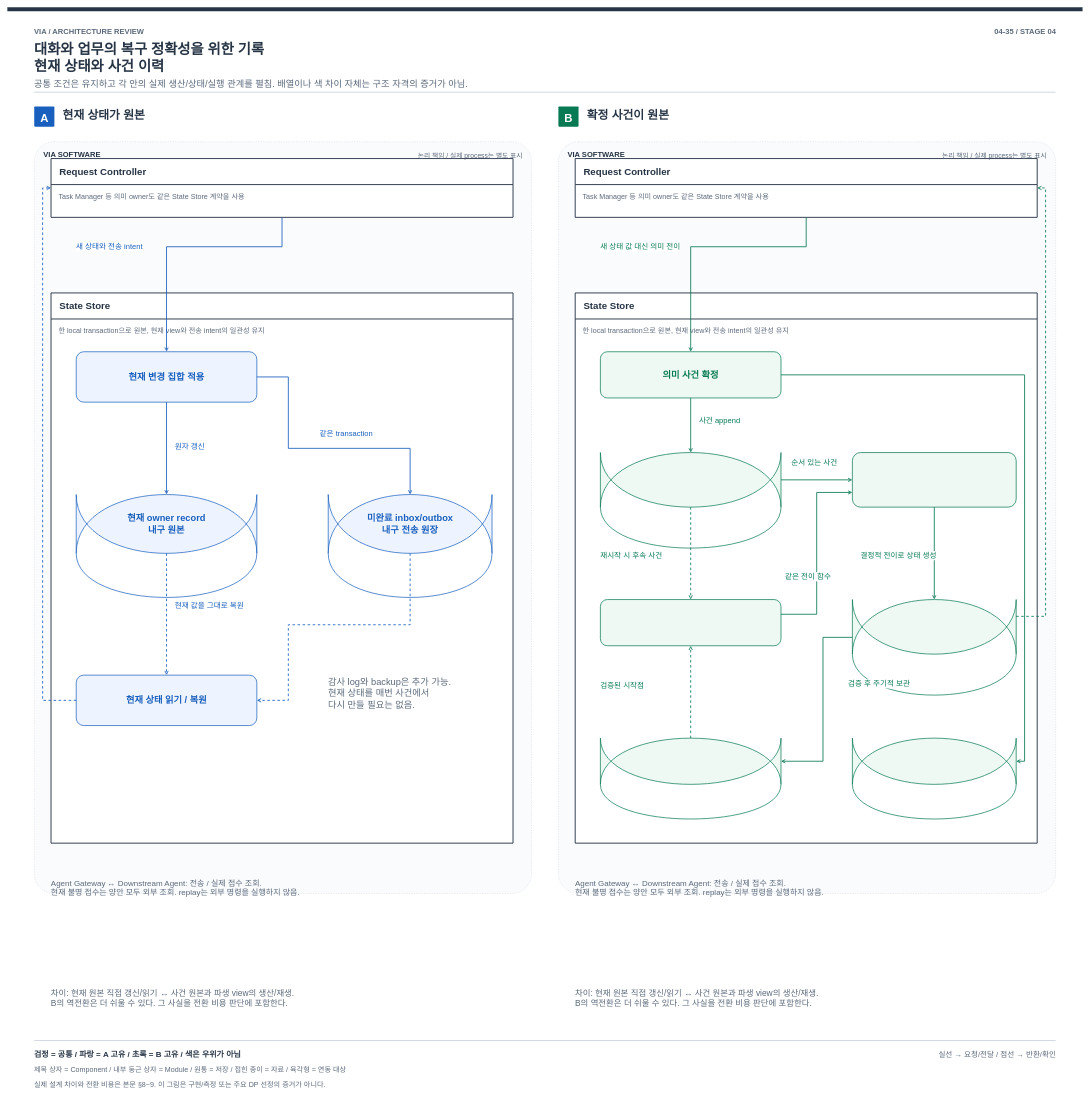
Some shapes in this 1089 by 1098 pixel diagram are drawn without their labels. Here are the shapes that lost their labels. From the top down, the centre of each, then its label:
At point (690, 479): "의미 사건 journal 내구 원본".
At point (934, 479): "상태 전이 reducer".
At point (690, 622): "checkpoint + 후속 사건 재생".
At point (934, 626): "현재 projection 다시 만들 수 있는 view".
At point (690, 761): "검증된 checkpoint 파생 snapshot".
At point (934, 761): "전송 intent / 원장".
